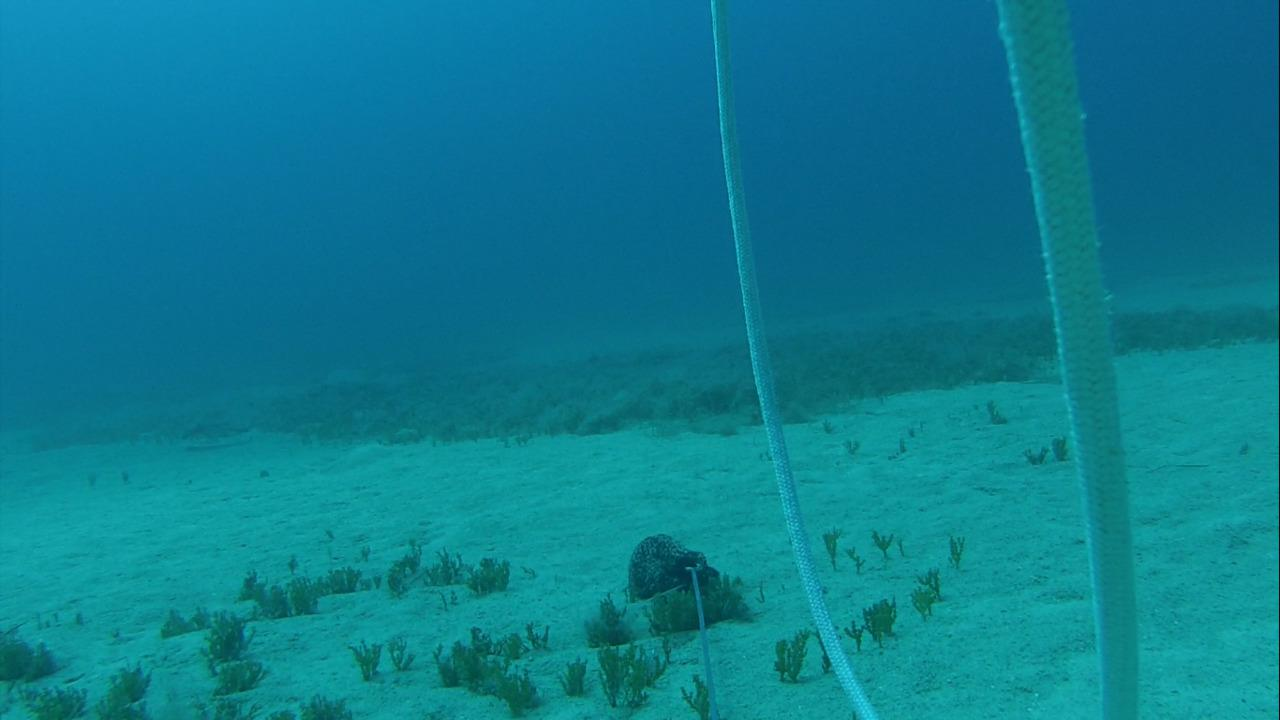dactylopterus: (167, 414, 265, 456)
